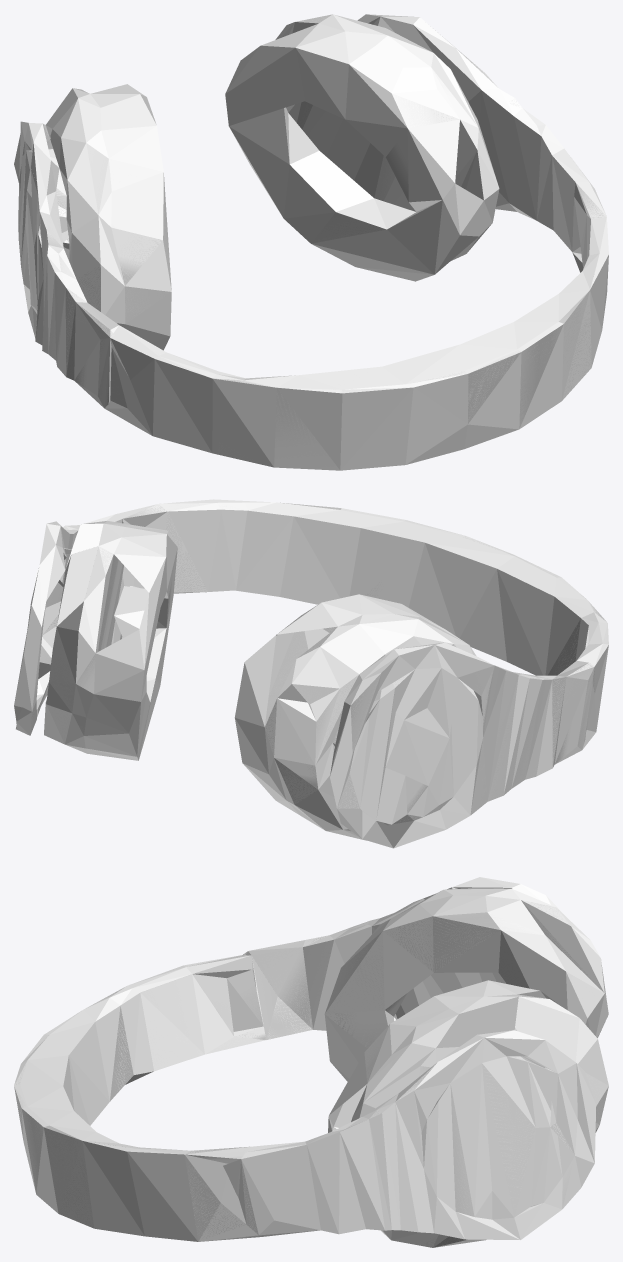
File: model_align.obj
3 renders of one model, top to bottom at view 1: azimuth 30°, elevation 25°; view 2: azimuth 150°, elevation 25°; view 3: azimuth 270°, elevation 25°, orthographic.
Bounding box in the file's own units: 0.1381 × 0.0663 × 0.1441.
9 materials, 9 textured.
